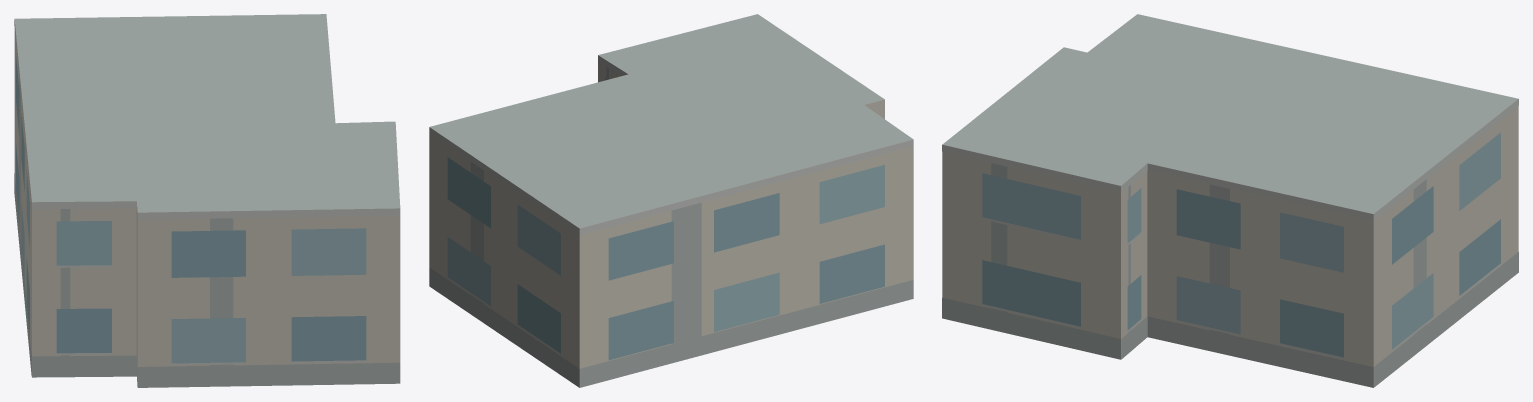
Rendered from residential-bbb53e3b-0bed-4486-91da-e4feb413bb1f.glb.
3 renders of one model, left to right at view 1: azimuth 30°, elevation 25°; view 2: azimuth 150°, elevation 25°; view 3: azimuth 270°, elevation 25°, orthographic. The views are drawn at different scales.
Parts seen in each view (by area): view 1: residential-bbb53e3b-0bed-4486-91da-e4feb413bb1f.tmp; view 2: residential-bbb53e3b-0bed-4486-91da-e4feb413bb1f.tmp; view 3: residential-bbb53e3b-0bed-4486-91da-e4feb413bb1f.tmp.
Boxes of the visible parts, x1,y1,x2,y2 form: residential-bbb53e3b-0bed-4486-91da-e4feb413bb1f.tmp: (14, 14, 400, 387); residential-bbb53e3b-0bed-4486-91da-e4feb413bb1f.tmp: (429, 14, 913, 387); residential-bbb53e3b-0bed-4486-91da-e4feb413bb1f.tmp: (942, 14, 1518, 387).
Size of the model in its own units: 14.83 by 6 by 18.06.
